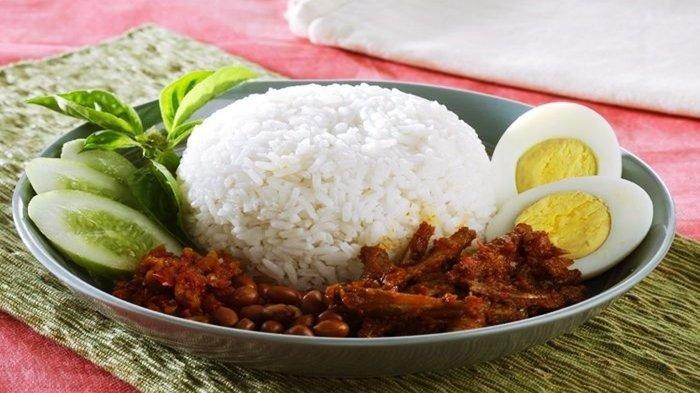Nasi Putih: (173, 75, 470, 265)
